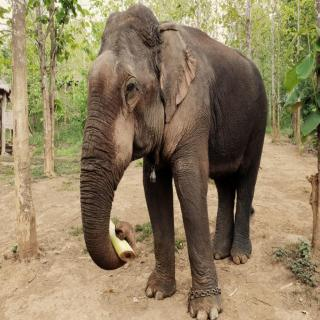Elephant: (77, 1, 270, 320)
